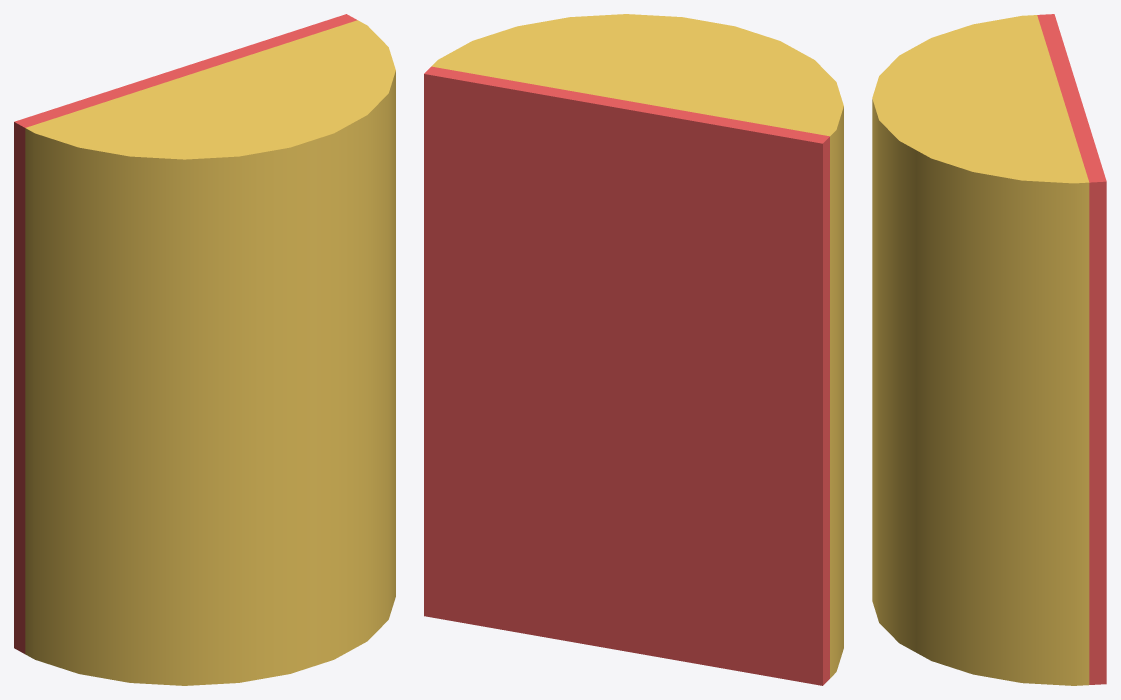
The model's file is Cil_Perpendicular_BaseB.fbx.
3 renders of one model, left to right at view 1: azimuth 30°, elevation 25°; view 2: azimuth 150°, elevation 25°; view 3: azimuth 270°, elevation 25°, orthographic. The views are drawn at different scales.
Parts seen in each view (by area): view 1: Difference1, Intersection; view 2: Intersection, Difference1; view 3: Difference1, Intersection.
Part boxes in pixels (x1=…): Difference1: x1=25, y1=20, x2=395, y2=685; Intersection: x1=14, y1=14, x2=357, y2=653; Intersection: x1=424, y1=66, x2=829, y2=685; Difference1: x1=431, y1=14, x2=843, y2=678; Difference1: x1=872, y1=15, x2=1089, y2=685; Intersection: x1=1037, y1=14, x2=1106, y2=684.
Size of the model in its own units: 99.36 by 137 by 58.12.
